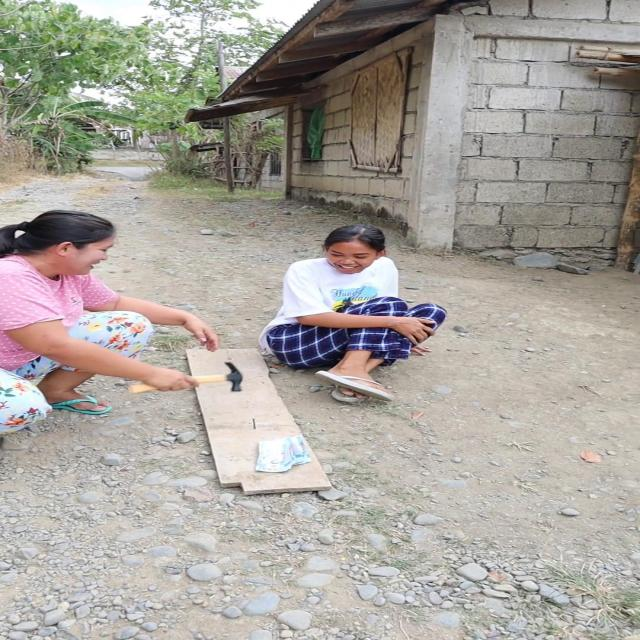hammer: (129, 362, 243, 393)
